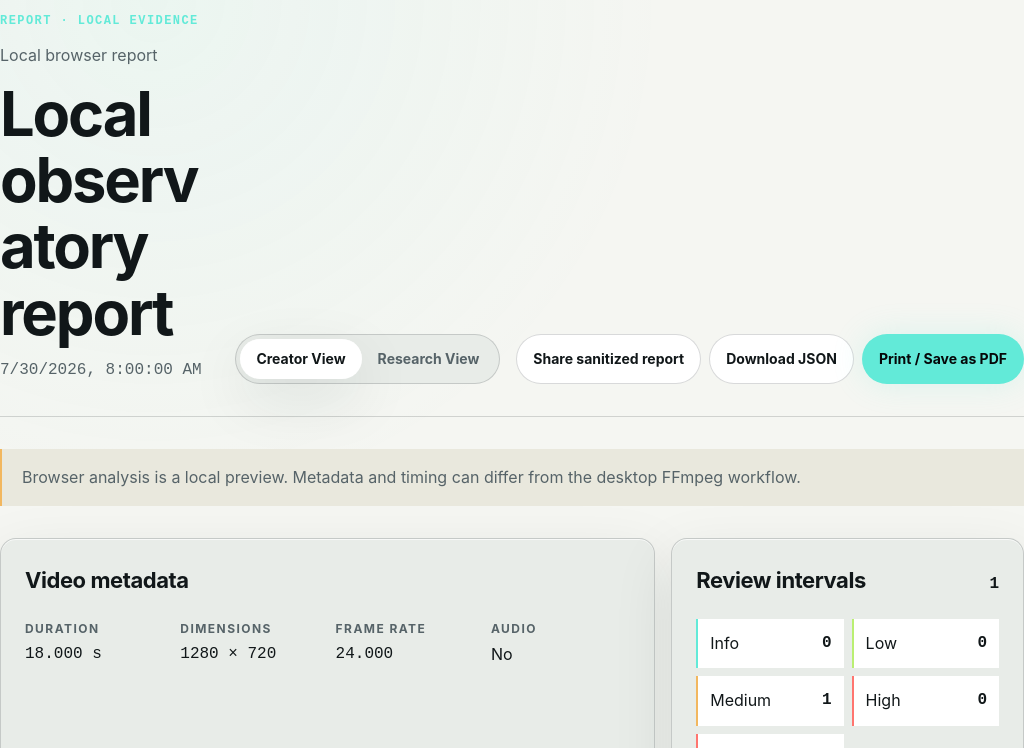
Scenario: ReportPage › switches from creator guidance to research diagnostics on the same report
Expected: the text "Detector ID" is not shown
Click the button "Research View". click: (428, 359)
box: x1=362 y1=339 x2=495 y2=379
(page scrolled)
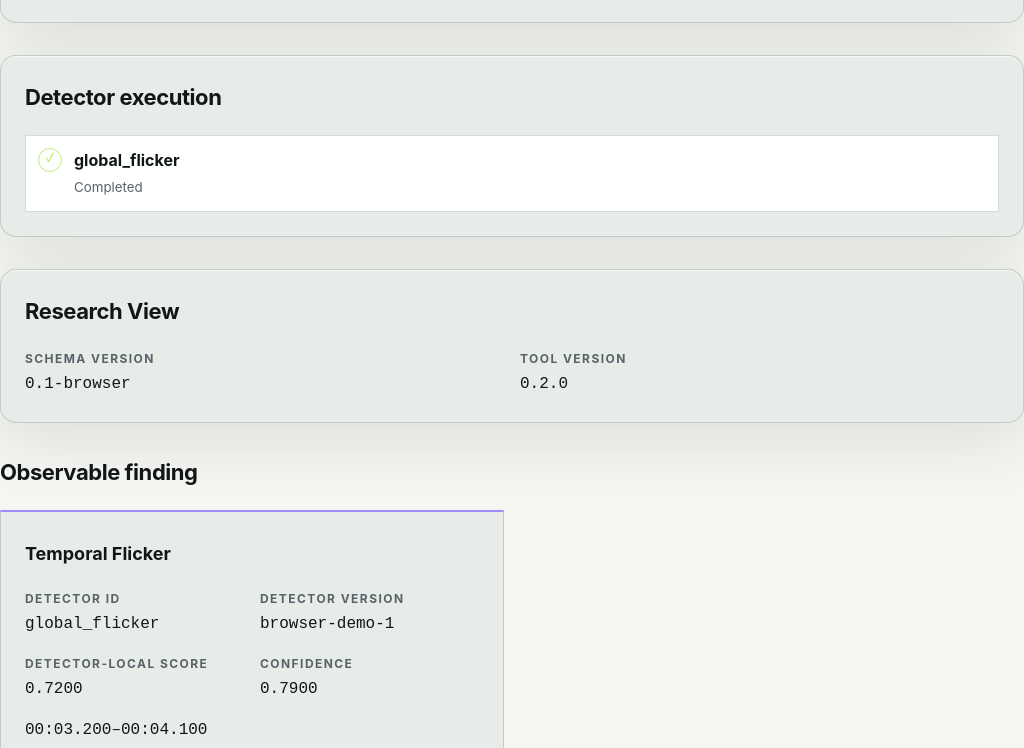
Expected: the text "Detector ID" is shown, x1=25 y1=591 x2=121 y2=606
Expected: the text "Detector version" is shown, x1=260 y1=591 x2=404 y2=606
Expected: the text "Confidence" is shown, x1=260 y1=656 x2=353 y2=670
